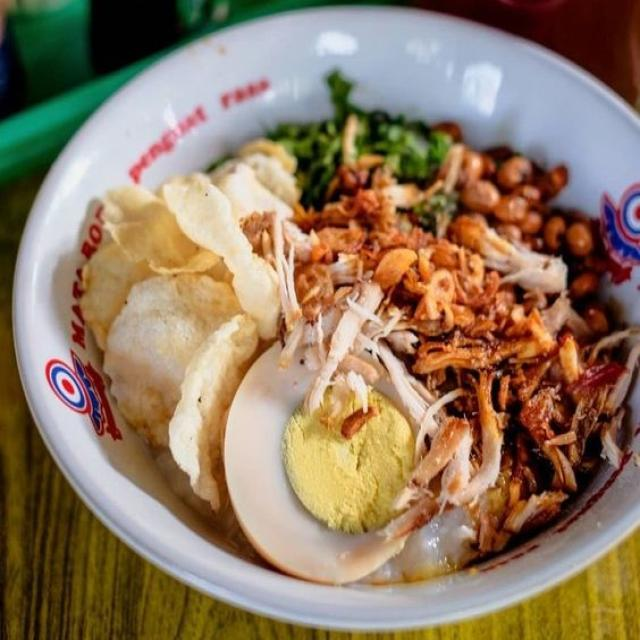bubur ayam: (77, 110, 636, 588)
mangkuk: (16, 7, 640, 630)
telur rebus: (220, 327, 438, 584)
